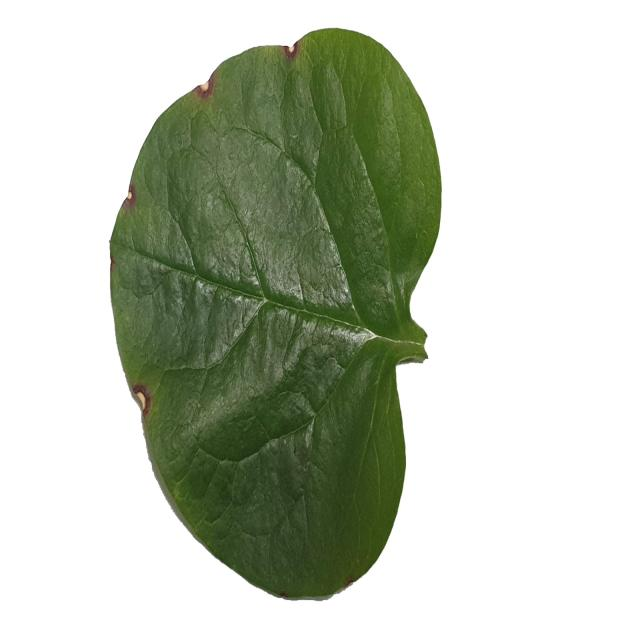Medicinal-Basale: (107, 27, 441, 604)
